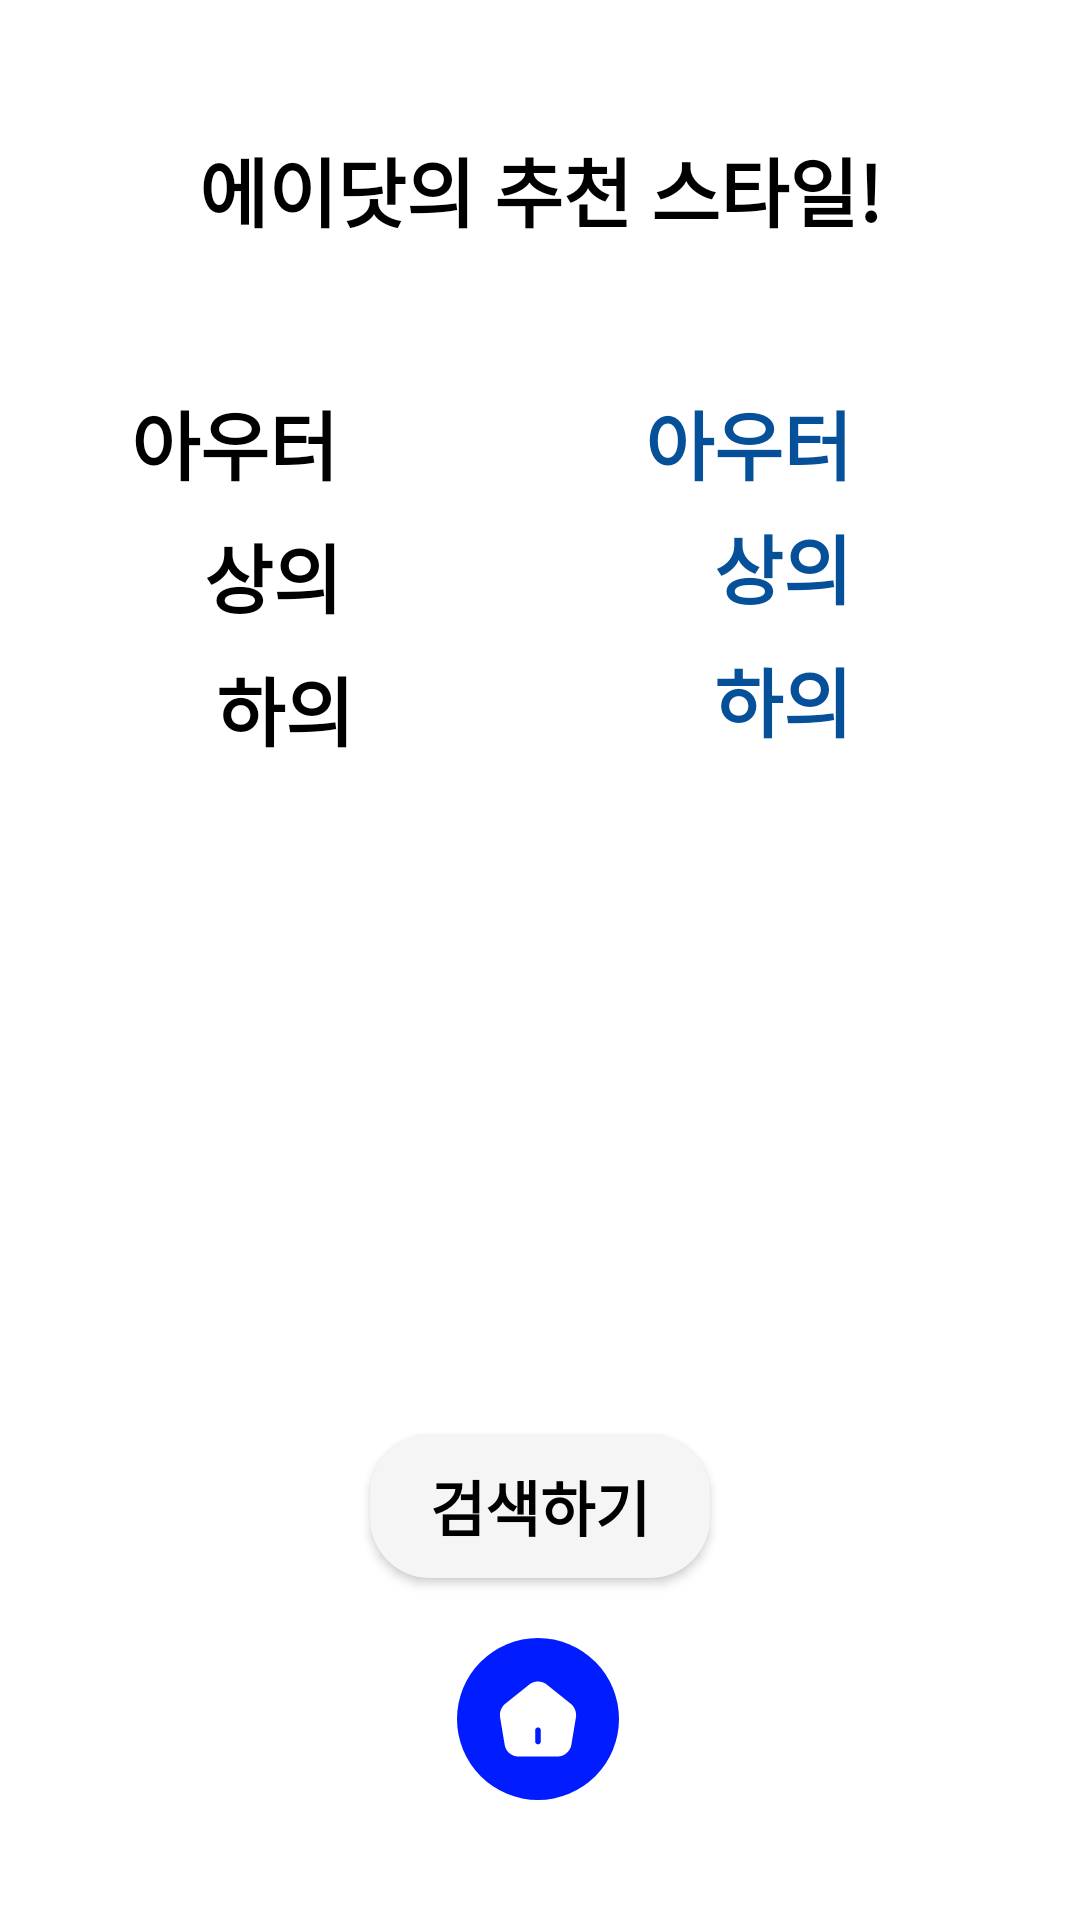

Icons on this 1080w x 1920h Android screen, each with the point to tap as [x,y]:
home: [538,1719]
